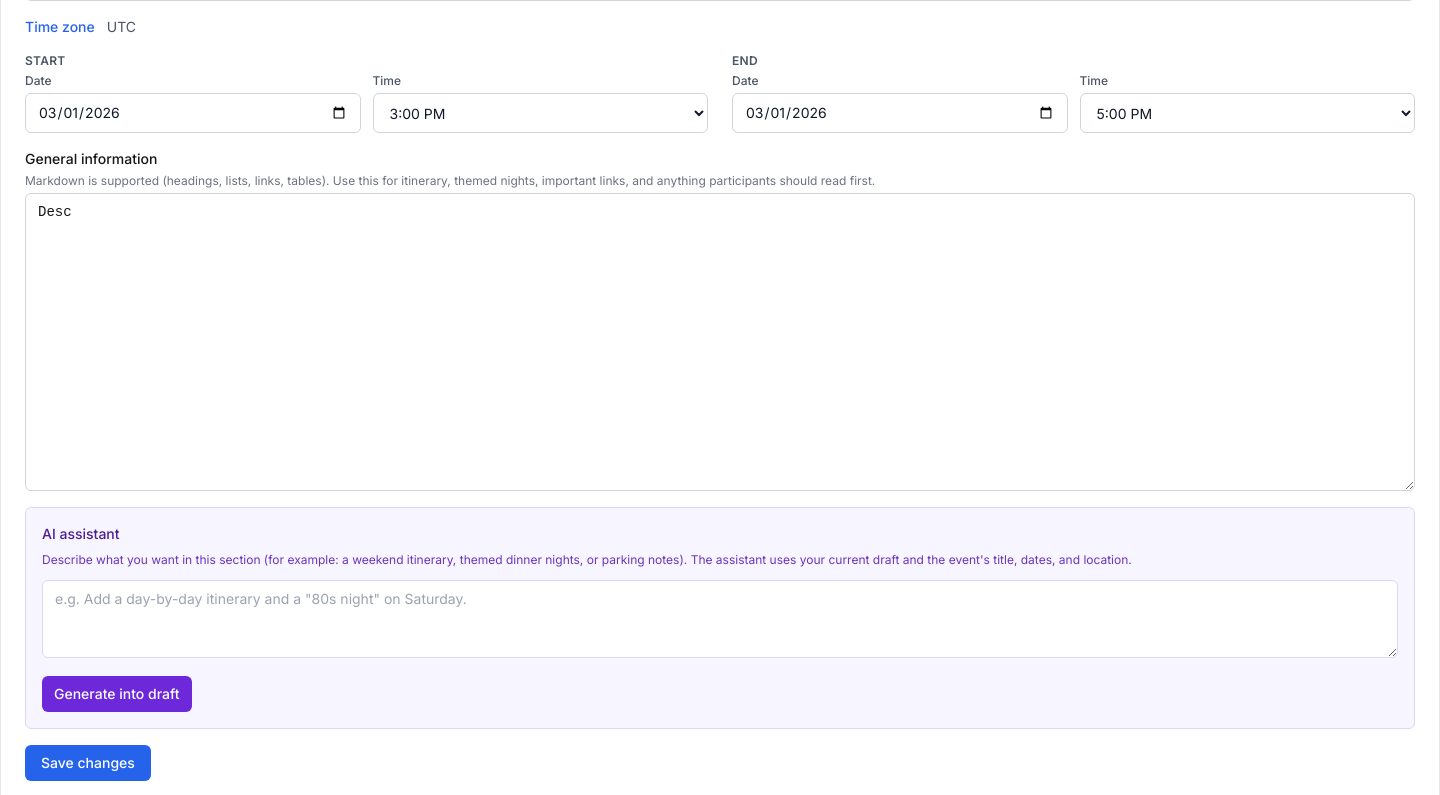
EditEventForm › shows error when updateEvent fails
This screenshot has width=1440, height=795.
(page scrolled)
Click the button "Save changes": (88, 763) [25, 745, 151, 781]
(page scrolled)
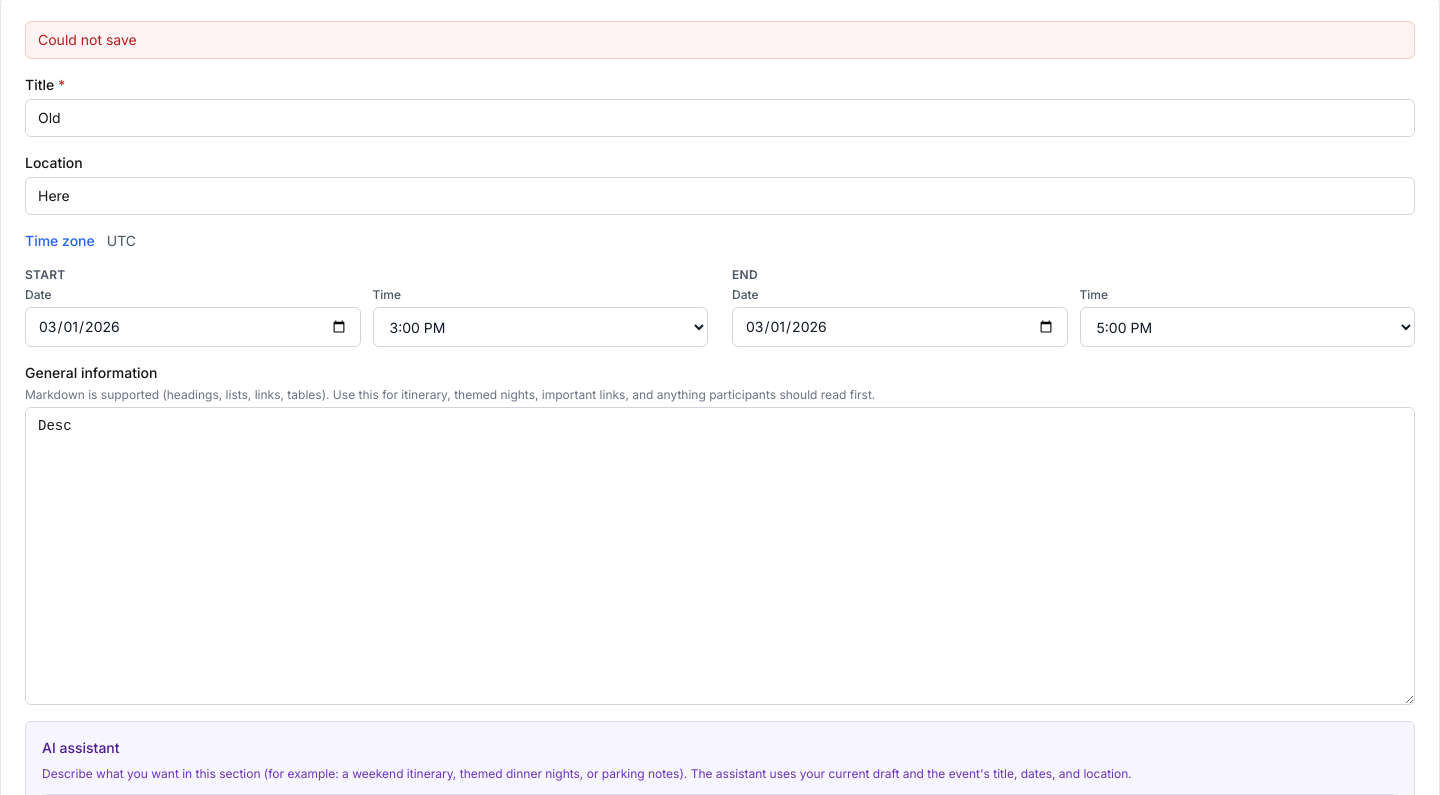
Now the message reads "Could not save", box [38, 31, 137, 48]
